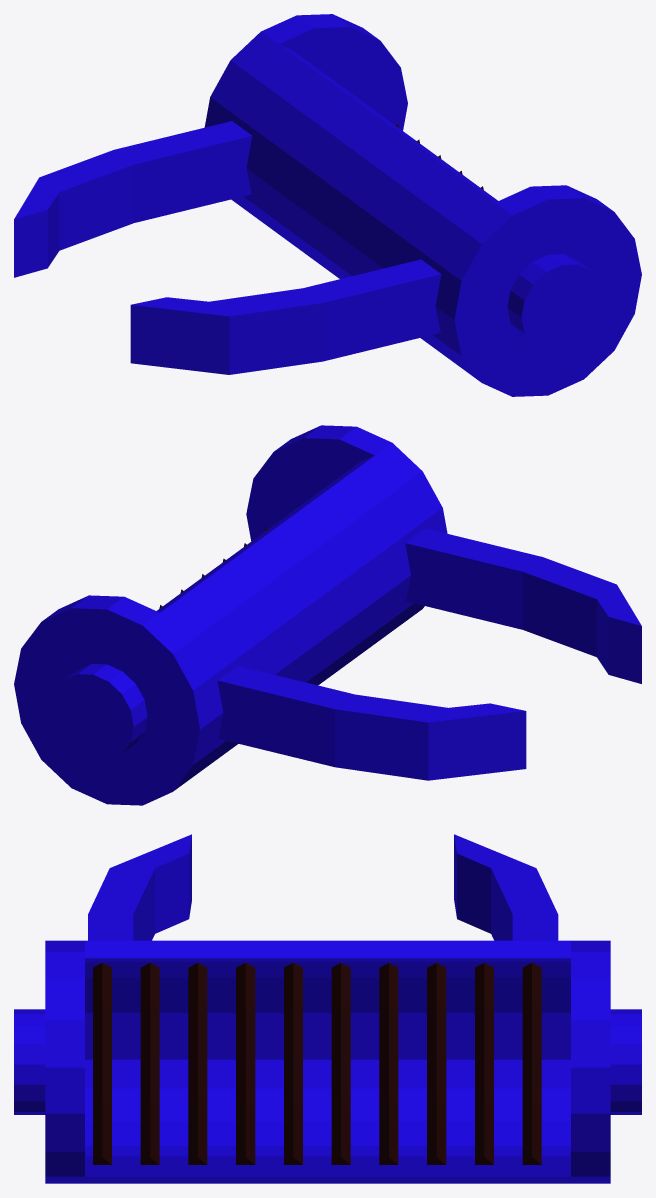
Rendered from tree_mower.glb.
3 renders of one model, top to bottom at view 1: azimuth 30°, elevation 25°; view 2: azimuth 150°, elevation 25°; view 3: azimuth 270°, elevation 25°, orthographic. The views are drawn at different scales.
Visible parts, largest first — view 1: Cylinder.018, Cube.027, Cube.026; view 2: Cylinder.018, Cube.026, Cube.027; view 3: Cylinder.018, Cube.028, Cube.026, Cube.027.
Part boxes in pixels (x1,y1,x2,y2): Cylinder.018: (204,14,641,396); Cube.027: (130,259,441,374); Cube.026: (14,121,252,277); Cylinder.018: (14,425,447,805); Cube.026: (217,666,526,780); Cube.027: (405,528,641,683); Cylinder.018: (14,940,641,1183); Cube.028: (93,963,541,1164); Cube.026: (454,834,558,940); Cube.027: (88,834,191,940).
Bounding box in the file's own units: 3.53 × 1.49 × 3.83.
